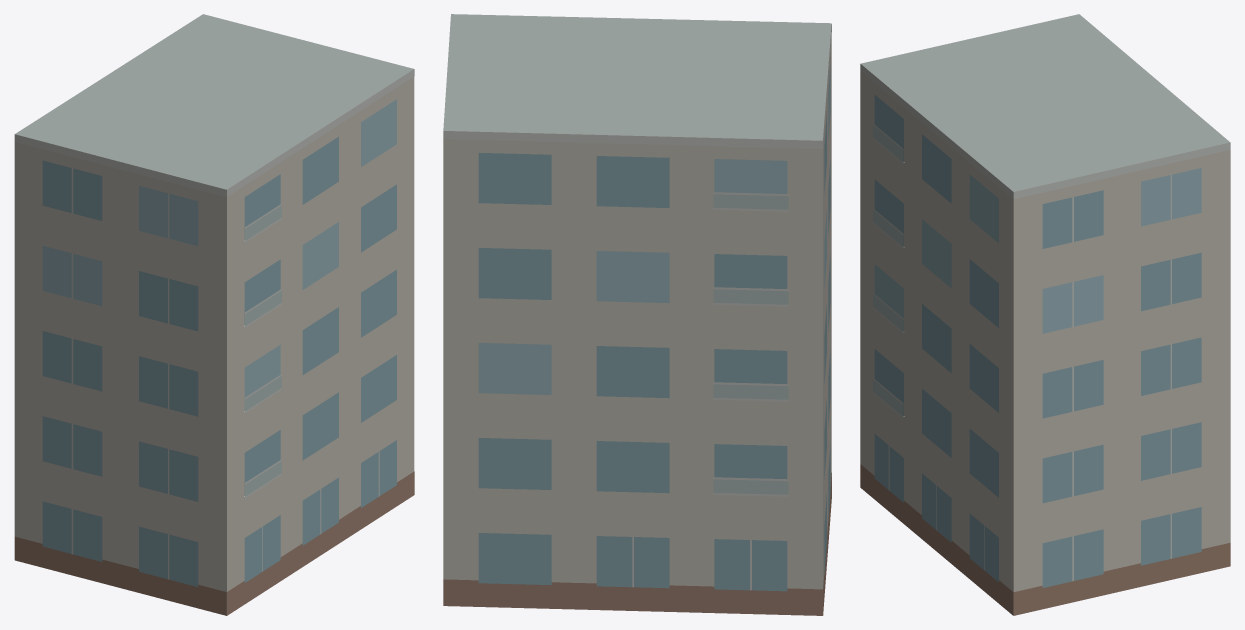
Rendered from survey-upis-33020022.glb.
The picture shows the model from 3 angles, left to right: view 1: azimuth 30°, elevation 25°; view 2: azimuth 150°, elevation 25°; view 3: azimuth 270°, elevation 25°; orthographic projection. The views are drawn at different scales.
Visible parts, largest first — view 1: survey-upis-33020022.tmp; view 2: survey-upis-33020022.tmp; view 3: survey-upis-33020022.tmp.
Part boxes in pixels (bbox=[...]): survey-upis-33020022.tmp: bbox=[14, 14, 414, 615]; survey-upis-33020022.tmp: bbox=[443, 14, 831, 615]; survey-upis-33020022.tmp: bbox=[860, 14, 1230, 615].
Bounding box in the file's own units: 12.66 × 14.05 × 11.13.
